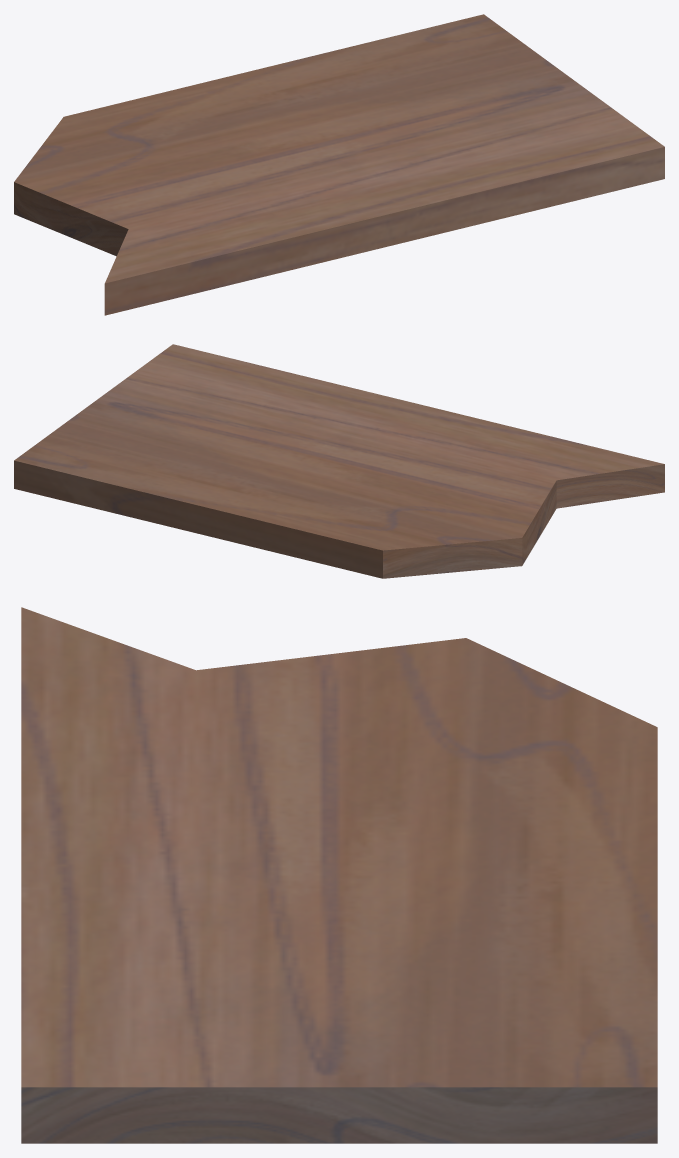
File: plank-split-c1.fbx
3 views of the same model, one above another, from view 1: azimuth 30°, elevation 25°; view 2: azimuth 150°, elevation 25°; view 3: azimuth 270°, elevation 25° (orthographic). The views are drawn at different scales.
Parts seen in each view (by area): view 1: plank-split-c1; view 2: plank-split-c1; view 3: plank-split-c1.
Part boxes in pixels (x1,y1,x2,y2): plank-split-c1: [14, 14, 664, 315]; plank-split-c1: [14, 344, 664, 578]; plank-split-c1: [21, 607, 657, 1143].
Size of the model in its own units: 18.15 by 0.9957 by 10.16.
